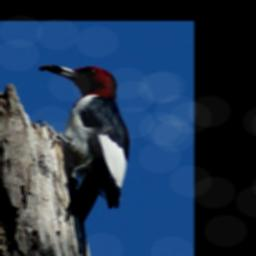Woodpecker: (39, 63, 131, 256)
